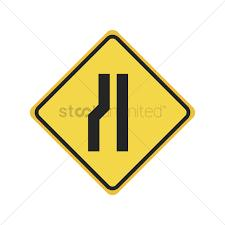narrow_road: (28, 28, 196, 195)
